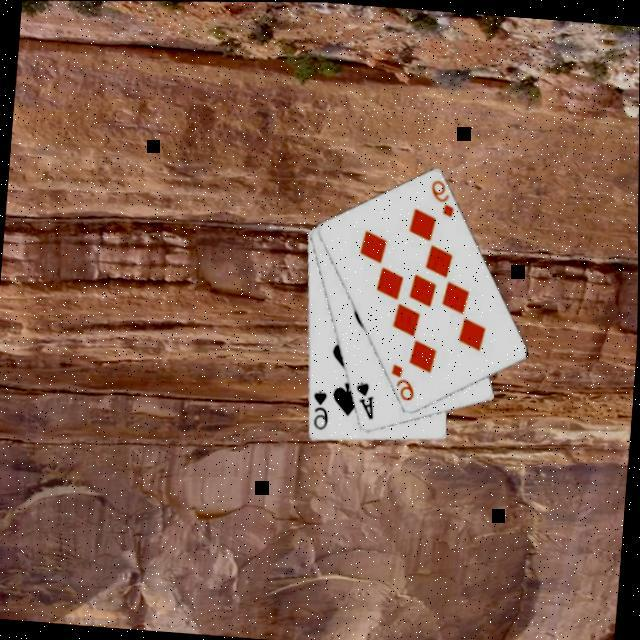9D: (384, 362, 418, 406), (424, 178, 458, 222)
9S: (307, 388, 332, 434)
AS: (350, 379, 377, 424)
